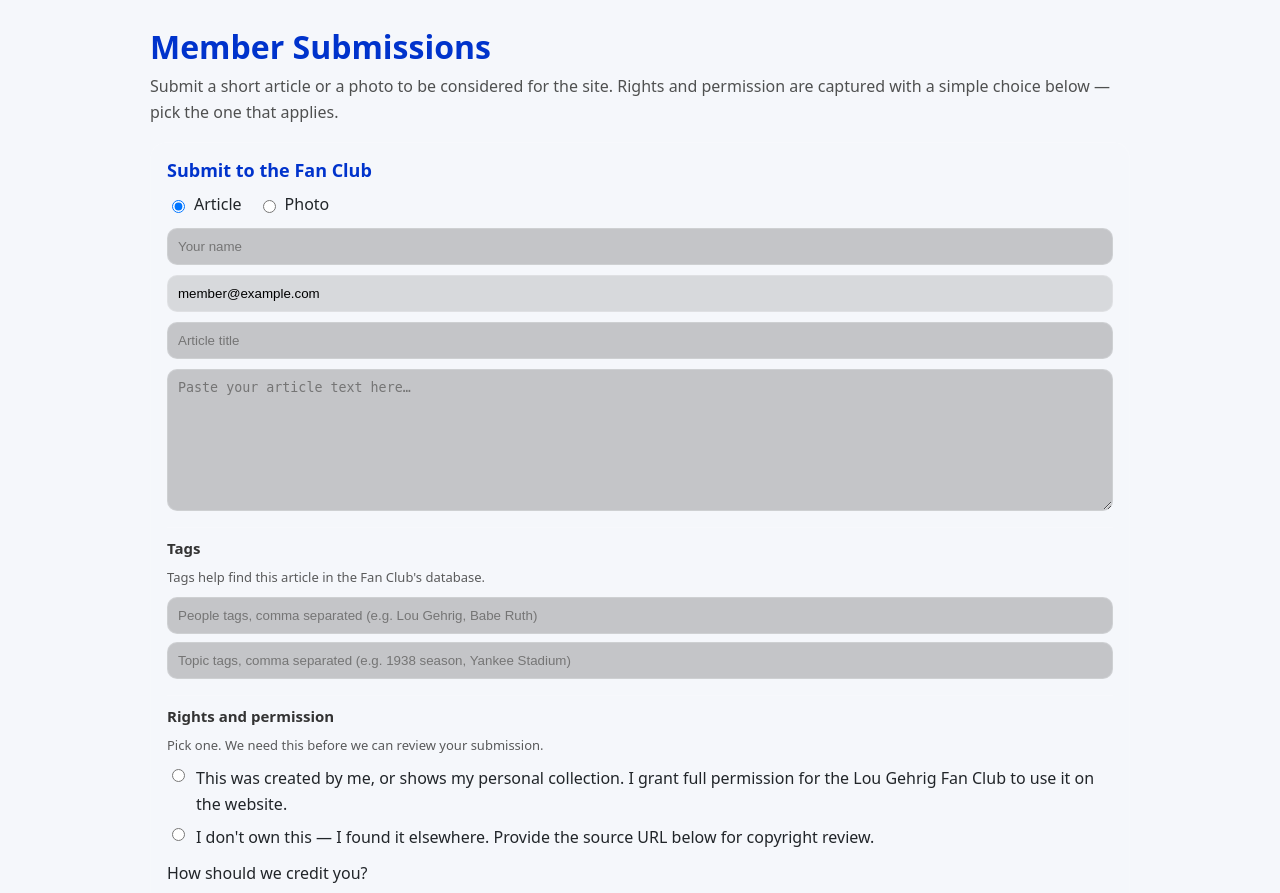
Fan Club operational pages › switching the submission kind to Photo swaps the article fields for a file input, and back
Expected: the field with placeholder "Article title" is shown, left=167, top=322, right=1113, bottom=359
Click the radio button labelled "Photo" at (269, 206), box left=263, top=200, right=276, bottom=213
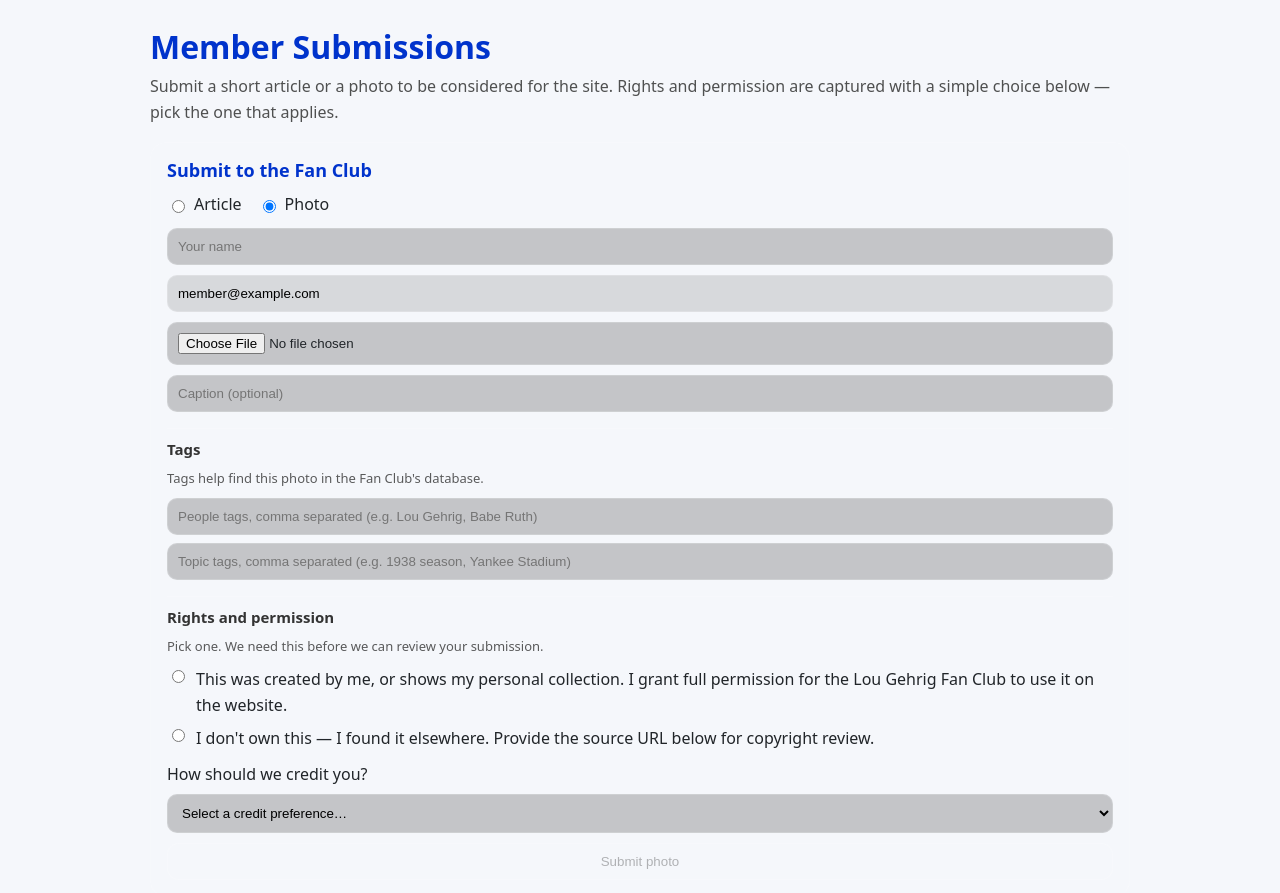
Expected: the field with placeholder "Article title" is not shown
Now the field with placeholder "Caption (optional)" is shown, box left=167, top=375, right=1113, bottom=412
Now the button "Submit photo" is shown, box left=167, top=842, right=1113, bottom=880
Click the radio button labelled "Article" at (178, 206), box left=172, top=200, right=185, bottom=213
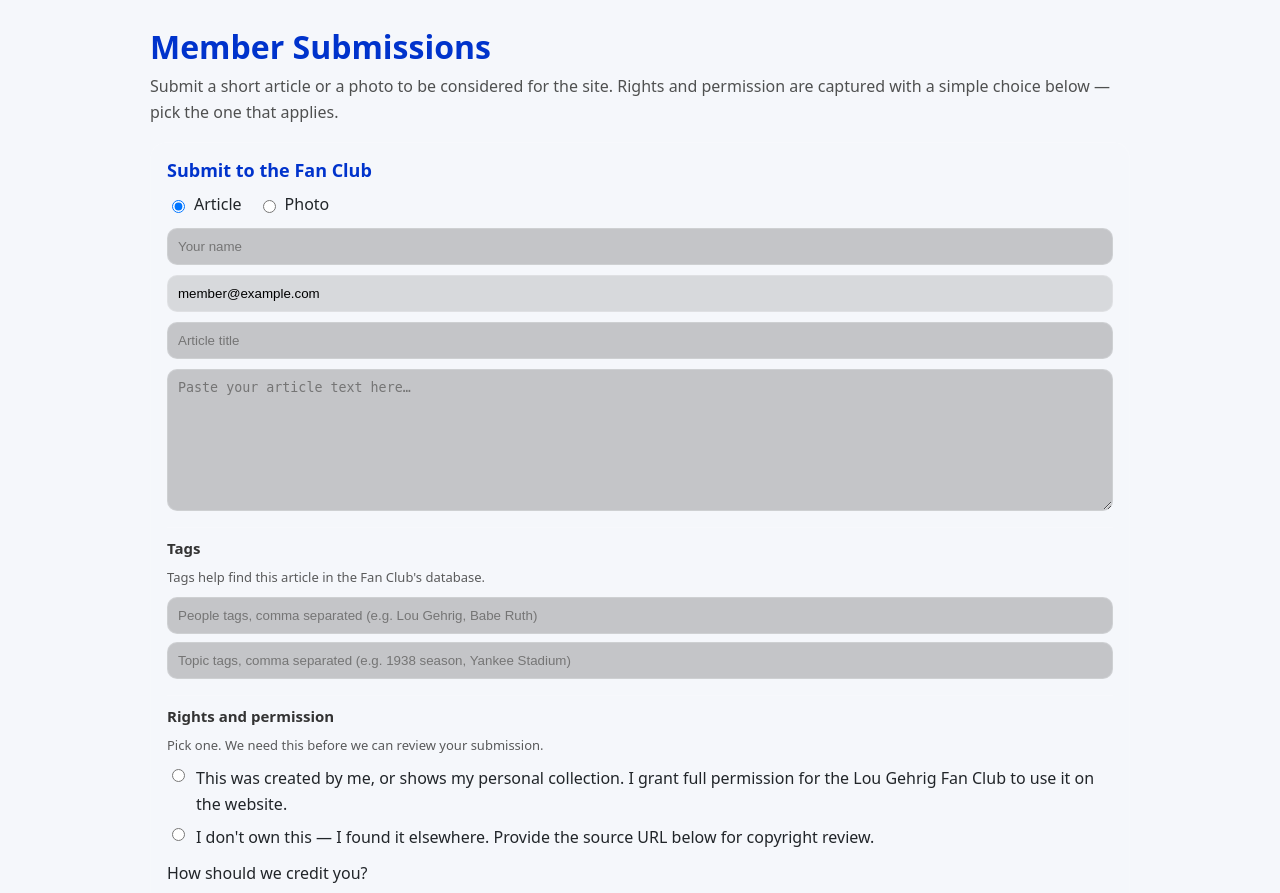
Now the field with placeholder "Article title" is shown, box left=167, top=322, right=1113, bottom=359
